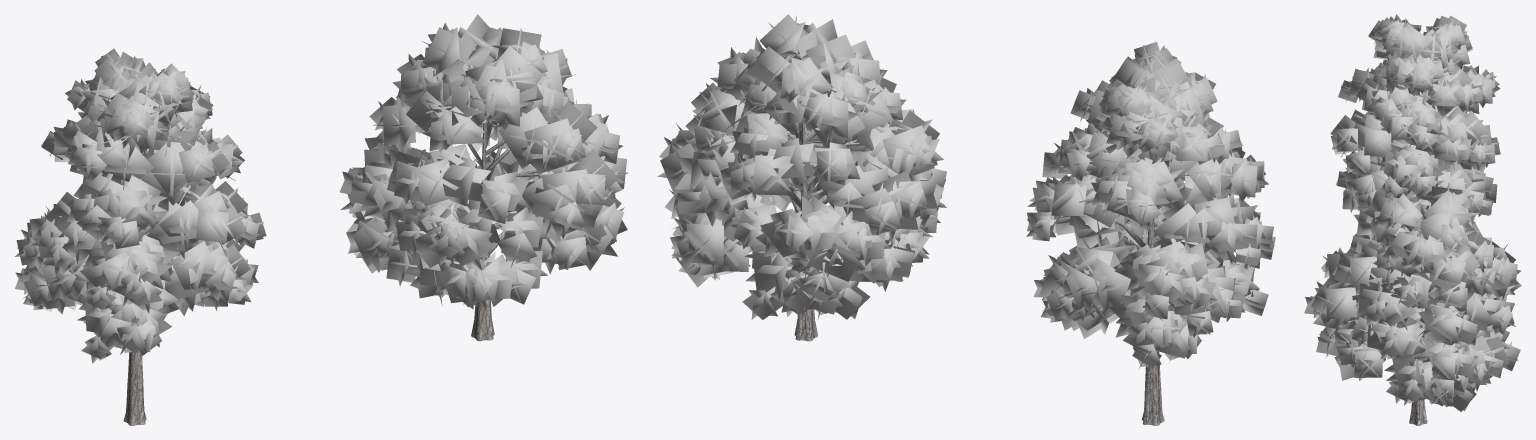
File: trees.fbx
3 views of the same model, side by side, from view 1: azimuth 30°, elevation 25°; view 2: azimuth 150°, elevation 25°; view 3: azimuth 270°, elevation 25° (orthographic). The views are drawn at different scales.
Parts seen in each view (by area): view 1: tree02, tree 01; view 2: tree02, tree 01; view 3: tree02, tree 01.
Boxes of the visible parts, <box> form: tree02: <box>339,14,627,341</box>; tree 01: <box>14,48,266,425</box>; tree02: <box>657,14,946,341</box>; tree 01: <box>1026,42,1275,425</box>; tree02: <box>1304,182,1521,425</box>; tree 01: <box>1330,14,1500,216</box>.
Size of the model in its own units: 30.35 by 17.9 by 12.65.
